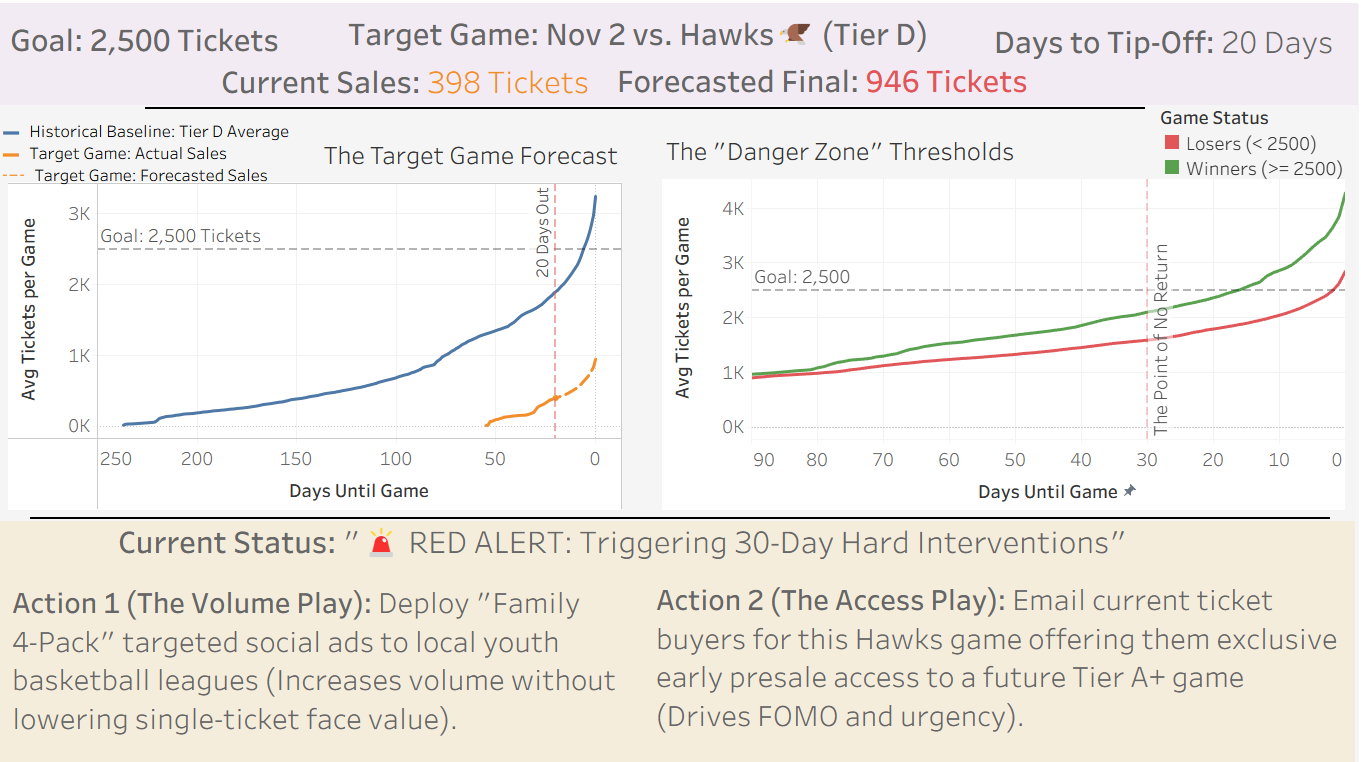

The page's visual inventory and layout, read from the dashboard file:
{"tool":"tableau","page":{"name":"Dashboard 1","canvas":[1366,768],"ordinal":0},"visuals":[{"type":"text","box":[10,7,285,59]},{"type":"text","box":[348,10,612,41]},{"type":"text","box":[994,11,365,56]},{"type":"text","box":[221,48,388,63]},{"type":"text","box":[617,52,454,52]},{"type":"legend","title":"Sheet 2","param":"[federated.1vec1ar0e1uhe715k0cwu08clkk8].[none:Calculation_0138580565307396:nk]","box":[1164,102,189,76]},{"type":"blank","box":[149,105,1000,2]},{"type":"text","box":[3,114,320,75]},{"type":"worksheet","title":"Sheet 2","mark":"Automatic","cols":["days_until_game"],"box":[666,128,683,380]},{"type":"worksheet","title":"Sheet 1","mark":"Automatic","rows":["Forecasted_Sales"],"cols":["days_until_game"],"box":[12,132,614,376]},{"type":"text","box":[118,501,1138,76]},{"type":"blank","box":[34,515,1300,2]},{"type":"text","box":[656,573,691,165]},{"type":"text","box":[12,574,624,169]}]}

Visuals, with their boxes in screenshot pixels (x1, y1, x2, y2), scaled from the page's 1366x768 canvas onto the 1361x762 screenshot:
text: rect(10, 7, 294, 65)
text: rect(347, 10, 956, 51)
text: rect(990, 11, 1354, 66)
text: rect(220, 48, 607, 110)
text: rect(615, 52, 1067, 103)
"Sheet 2" legend: rect(1160, 101, 1348, 177)
blank: rect(148, 104, 1145, 106)
text: rect(3, 113, 322, 188)
"Sheet 2" worksheet: rect(664, 127, 1344, 504)
"Sheet 1" worksheet: rect(12, 131, 624, 504)
text: rect(118, 497, 1251, 572)
blank: rect(34, 511, 1329, 513)
text: rect(654, 569, 1342, 732)
text: rect(12, 570, 634, 737)
